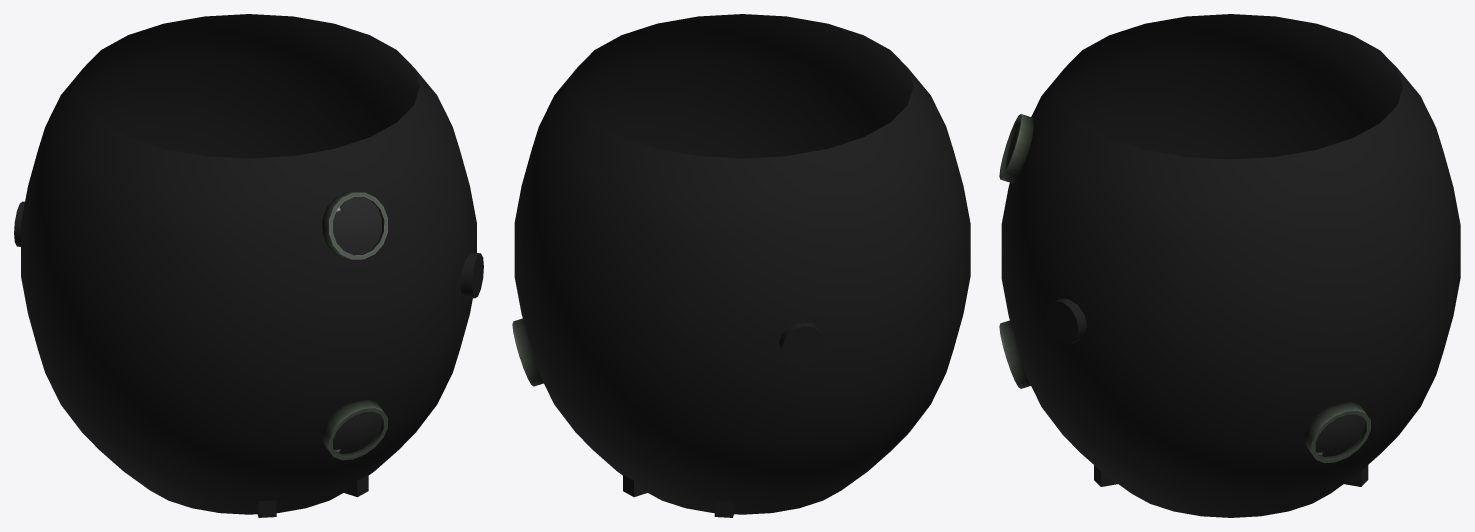
File: virgo_orbital_module_s1_1.obj
3 renders of one model, left to right at view 1: azimuth 30°, elevation 25°; view 2: azimuth 150°, elevation 25°; view 3: azimuth 270°, elevation 25°, orthographic.
Parts seen in each view (by area): view 1: mesh, windows; view 2: mesh; view 3: mesh, windows.
Part boxes in pixels (x1,y1,x2,y2): mesh: (14, 14, 483, 517); windows: (333, 197, 381, 453); mesh: (512, 14, 970, 517); mesh: (999, 14, 1460, 517); windows: (1005, 125, 1364, 456).
Bounding box in the file's own units: 1.25 × 1.15 × 1.26.
